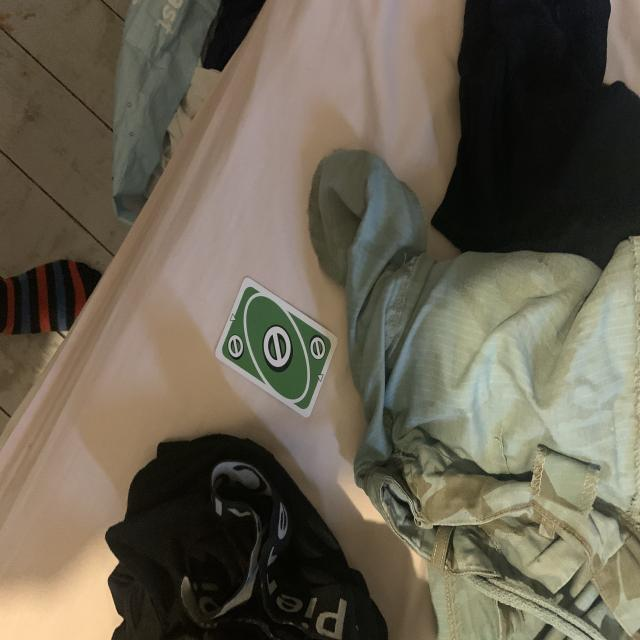lgreenskip-20: (225, 333, 249, 361)
